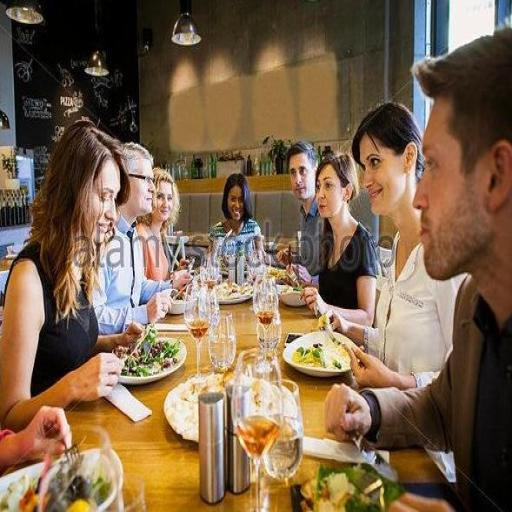person: (326, 28, 511, 510), (0, 122, 141, 430), (335, 103, 463, 389), (94, 143, 190, 334), (302, 154, 377, 325), (277, 142, 322, 283), (0, 407, 71, 474), (137, 168, 179, 281), (209, 173, 263, 255)
